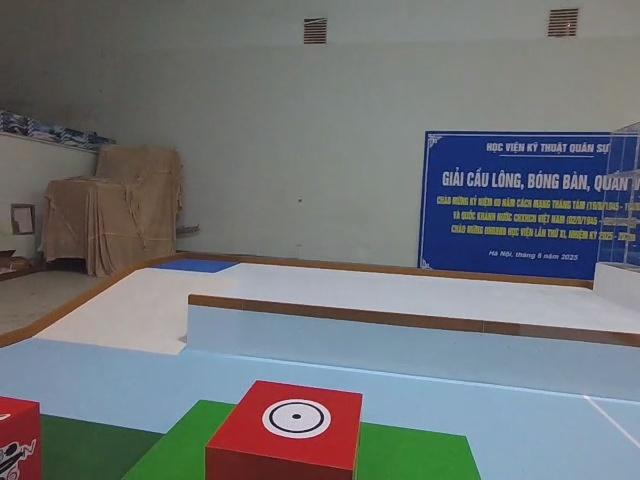R1: (0, 394, 40, 480)
R2 Real: (204, 378, 363, 480)
